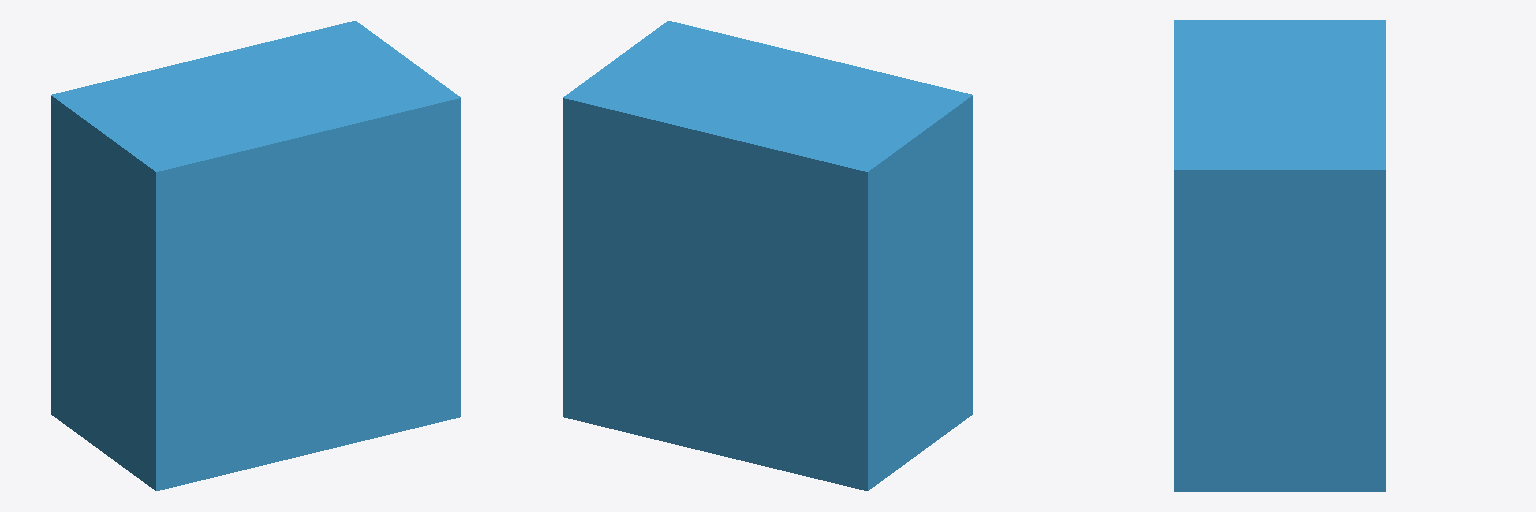
The robot description file, URDF, robot "object":
<robot name="object">
  <link name="world" />
  <link name="object">
    <visual>
       <geometry>
	   <box size=".05 .03 .05"/>
	</geometry>
    </visual>
    <collision>
       <geometry>
           <box size=".05 .03 .05"/>
	</geometry>
    </collision>
    <inertial>
    	<mass value="0.05"/>
      <inertia ixx="0.0108" ixy="0" ixz="0" iyy="0.0083" iyz="0" izz="0.0042"/>
    </inertial>
  </link>

  <gazebo reference="object">
      <dampingFactor>0.005</dampingFactor>
      <kp>1000000</kp>
      <kd>1.0</kd>
      <mu1>100.0</mu1>
      <mu2>100.0</mu2>
      <minDepth>0.001</minDepth>
  </gazebo>
  <joint name="joint1" type="floating">
    <parent link="world"/>
    <child link="object"/>
  </joint>
</robot>

--- Render facts (derived) ---
Views: 3 orthographic renders of the robot side by side, from view 1: azimuth 30°, elevation 25°; view 2: azimuth 150°, elevation 25°; view 3: azimuth 270°, elevation 25°.
Robot: object — 2 links, 1 joints (1 floating); root link world; default pose: every joint at zero.
Visible links, largest first — view 1: object; view 2: object; view 3: object.
Boxes of the visible links, x1,y1,x2,y2 form: object: [51, 21, 460, 490]; object: [563, 21, 972, 490]; object: [1174, 20, 1385, 491].
Size in the robot's own frame: 0.05 by 0.03 by 0.05 metres.
Geometry: primitives only (box / cylinder / sphere), no mesh files.